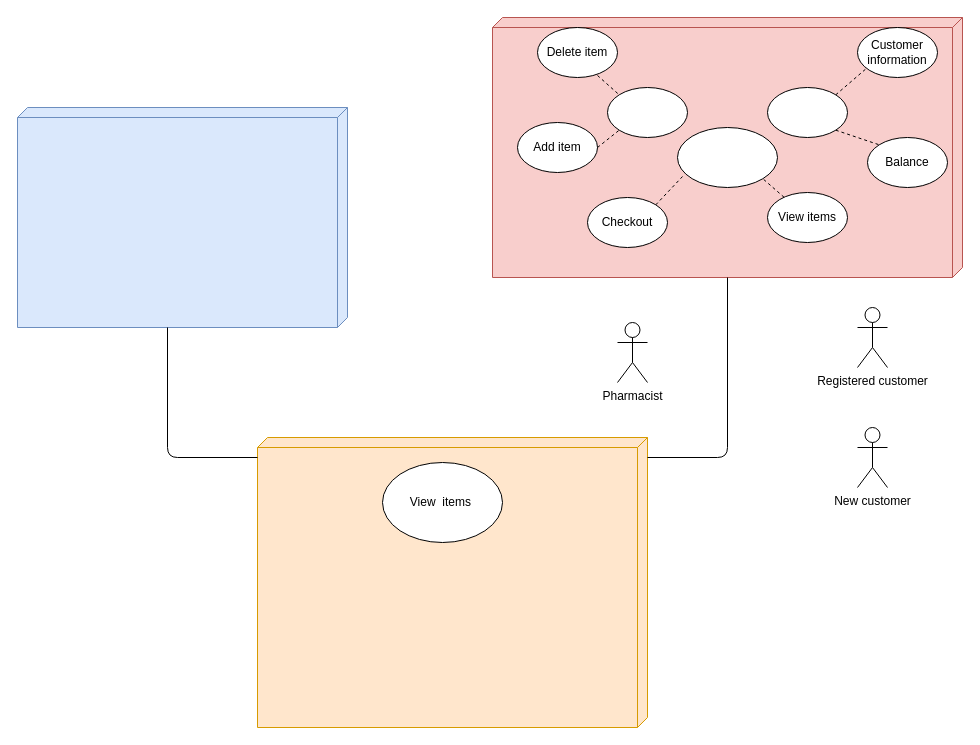
Image size: 980x745. Some labels were removed from this diagram. The box of each missing label's shape, as (x1, y1, x2, y2) in pixels:
Block: (492, 16, 962, 278)
Make purchase: (676, 126, 778, 188)
Manage cart: (606, 86, 688, 138)
Stock Manager: (256, 436, 648, 728)
View account: (766, 86, 848, 138)
